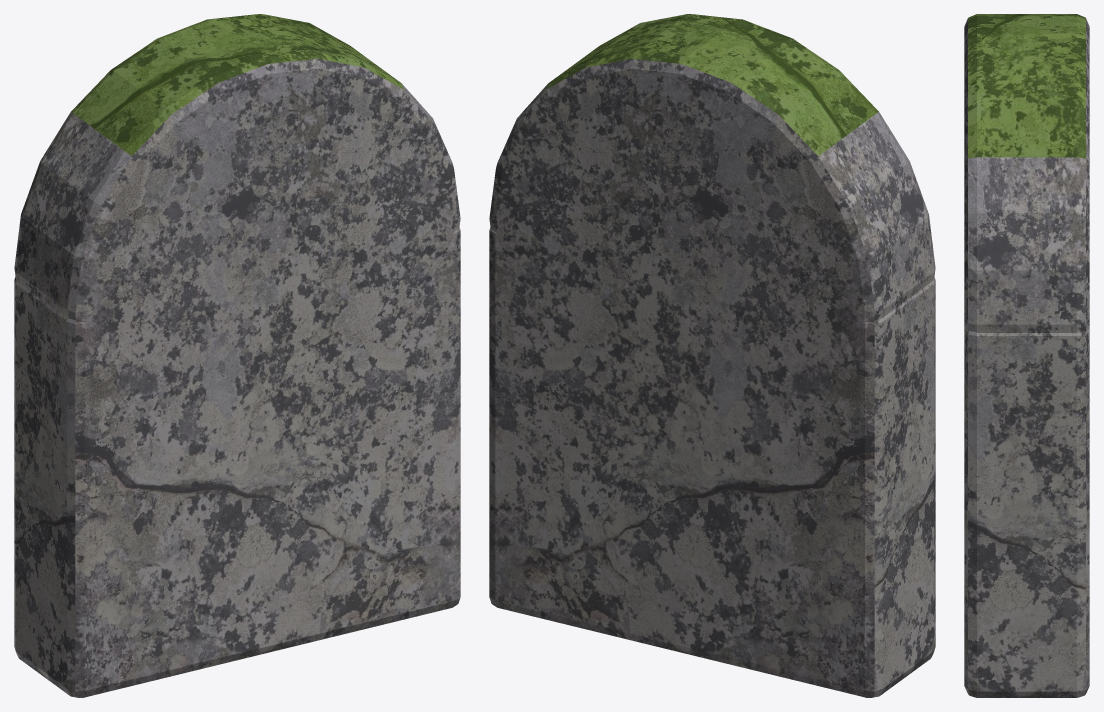
Rendered from stone.glb.
3 renders of one model, left to right at view 1: azimuth 30°, elevation 25°; view 2: azimuth 150°, elevation 25°; view 3: azimuth 270°, elevation 25°, orthographic. The views are drawn at different scales.
Parts seen in each view (by area): view 1: Stone; view 2: Stone; view 3: Stone.
Part boxes in pixels (bbox=[...]): Stone: bbox=[14, 14, 460, 697]; Stone: bbox=[489, 14, 935, 697]; Stone: bbox=[964, 14, 1089, 697].
Bounding box in the file's own units: 0.42 × 0.61 × 0.12.
Materials: 2 (2 with a texture image).
